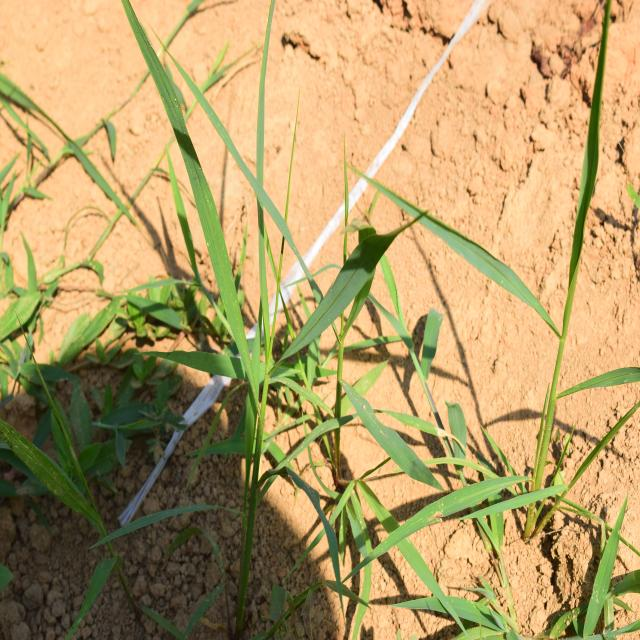green_foxtail: (165, 55, 442, 519)
